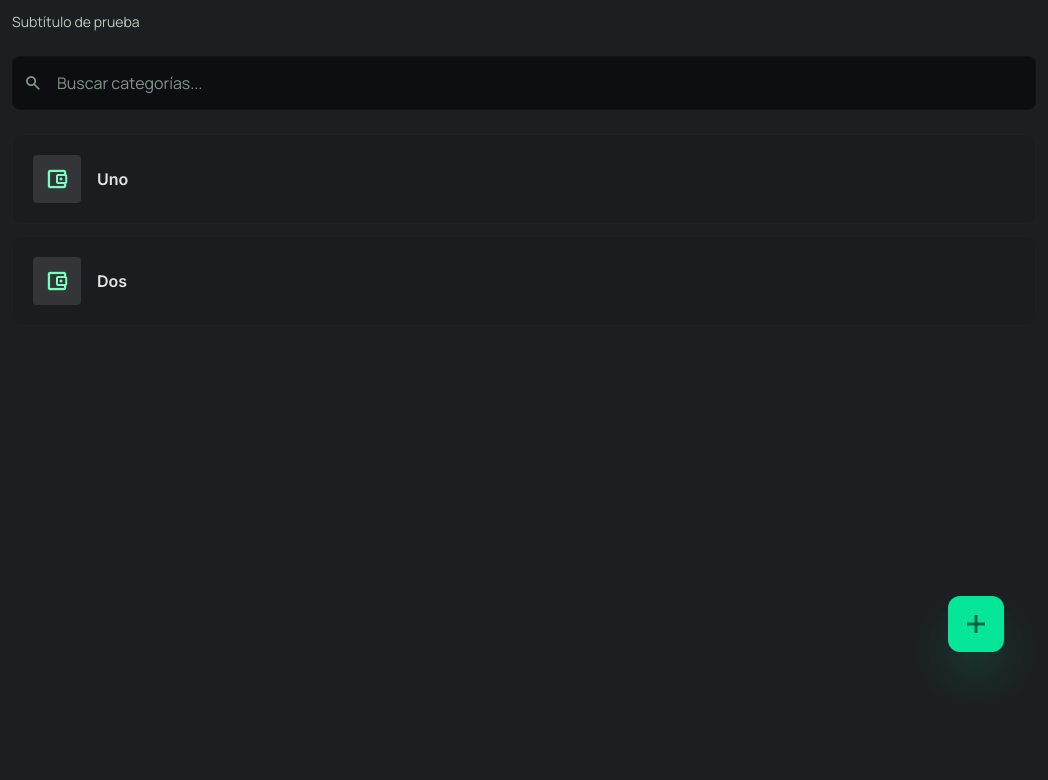
Test: CategoryManagementView.vue › filters income categories by search
The image size is (1048, 780).
Type "Dos" into the search field with placeholder "Buscar categorías..." at point(524, 83), box [12, 56, 1036, 110]
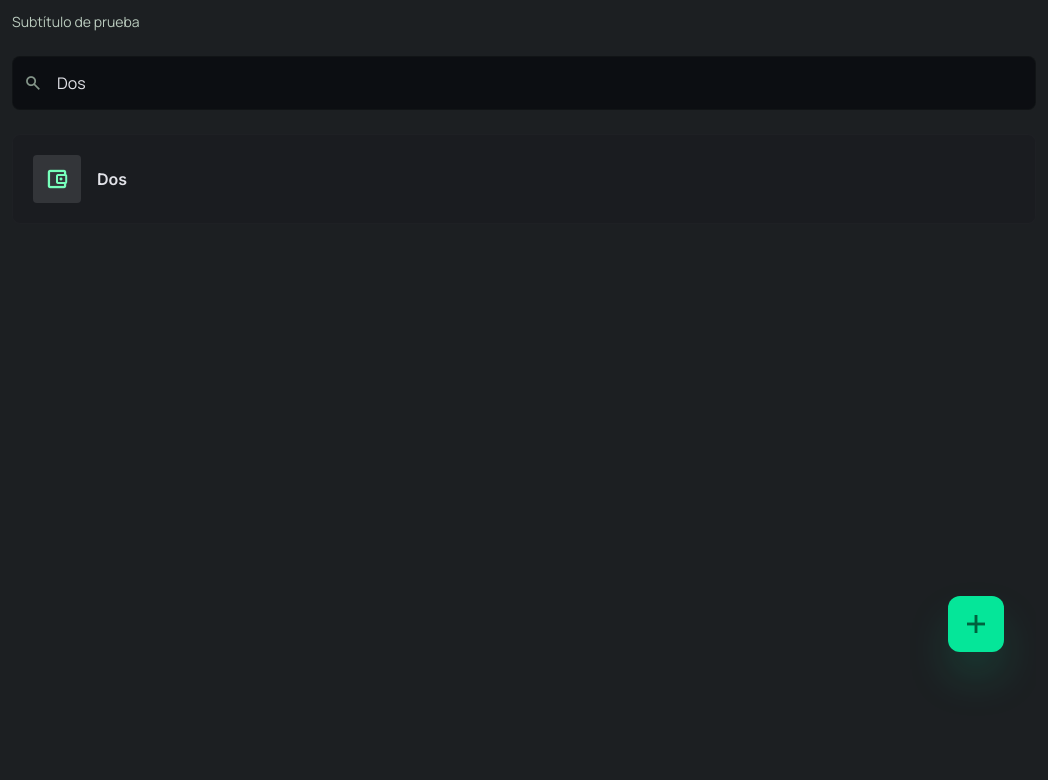
Check: the text "Dos" is shown, box [97, 169, 127, 189]
Check: the text "Uno" is gone
